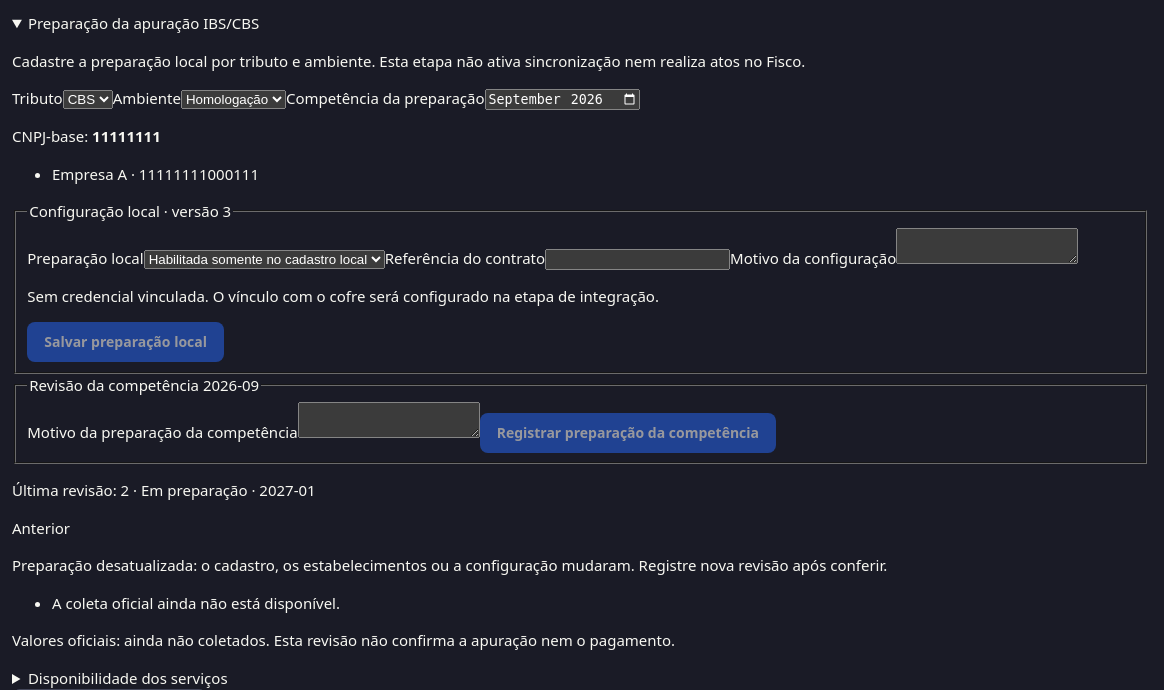
Test: revisão versionada mostra pendências e desatualização sem alegar valores coletados
The width and height of the screenshot is (1164, 690).
Check: the text "Preparação desatualizada:" is shown, box left=12, top=555, right=887, bottom=575
Check: the list item "A coleta oficial ainda não está disponível." is shown, box left=52, top=593, right=340, bottom=613
Type "Conferi cadastro local" into the text box labelled "Motivo da preparação da competência".
click(389, 420); type("Conferi cadastro local")  # box left=298, top=402, right=480, bottom=438
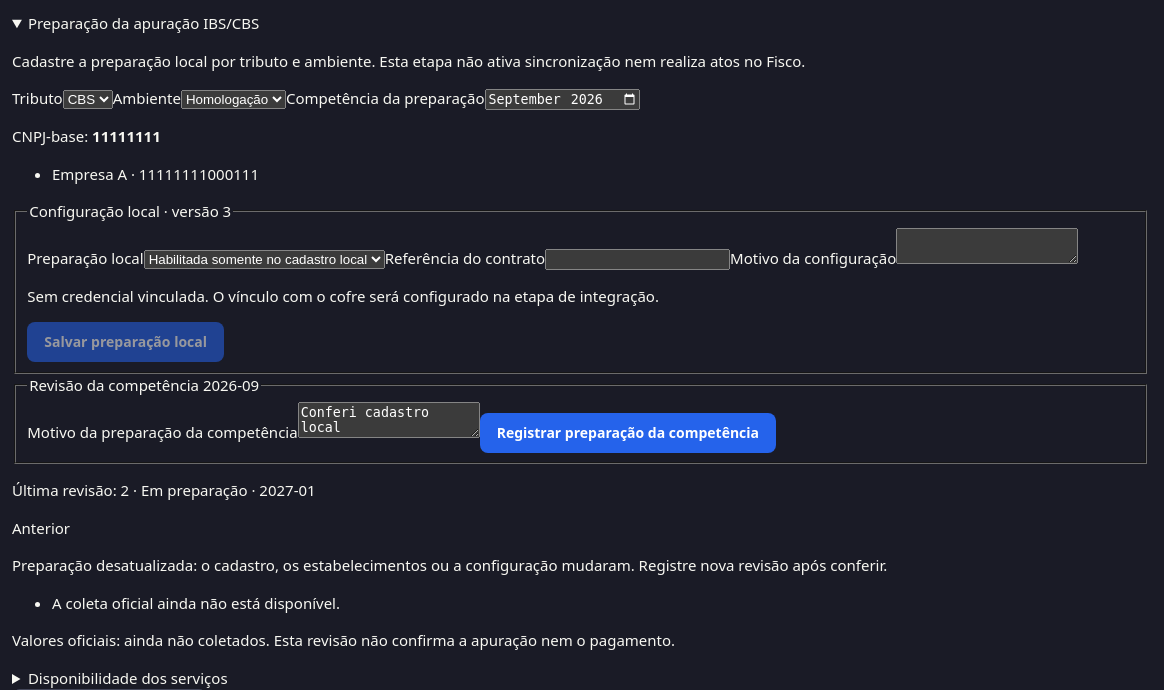
Click the button "Registrar preparação da competência".
click(628, 433)  # box left=480, top=413, right=776, bottom=453
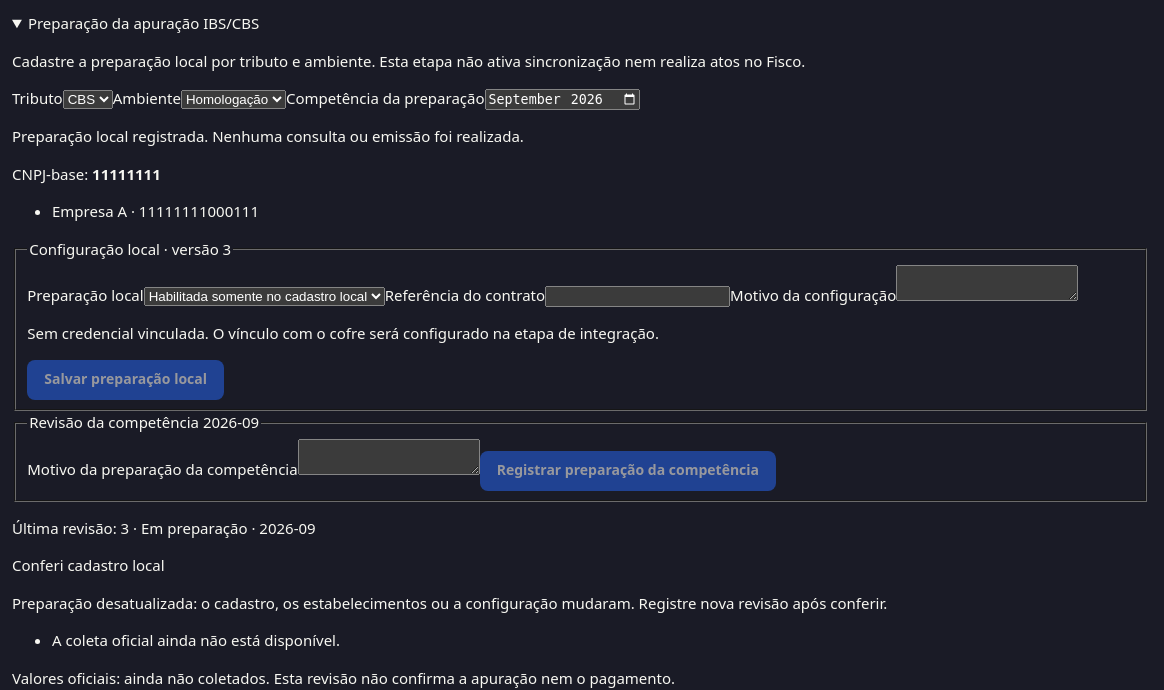
Check: the text "Valores oficiais: ainda não coletados" is shown, box left=12, top=668, right=675, bottom=688
Check: the text "Última revisão: 3 · Em preparação · 2026-09" is shown, box left=12, top=518, right=316, bottom=538
